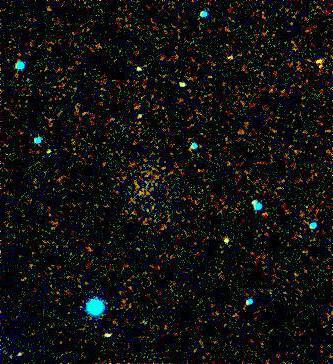star: (306, 47, 333, 77)
